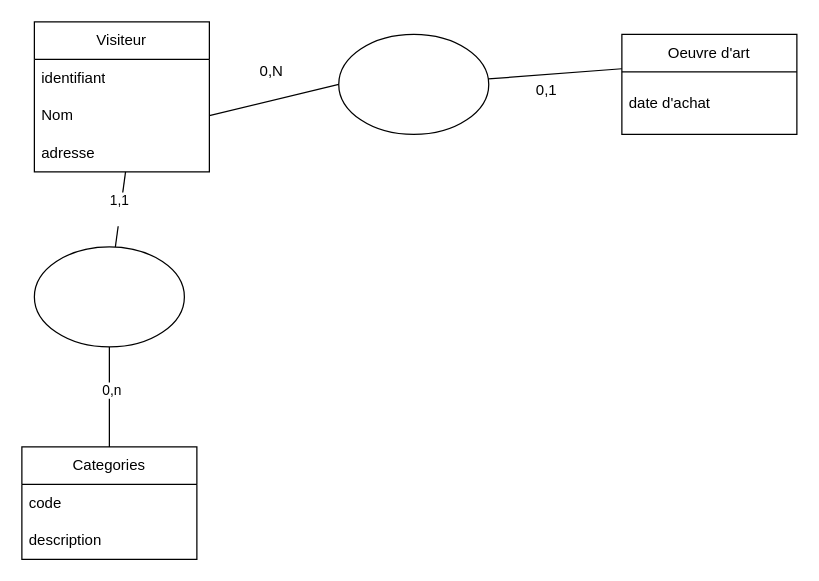
The diagram is 819 pixels wide and 581 high, and some of its shapes have lost their labels. The shapes that lost their labels are listed below. From the top down, each one's centre as x and y in pixels, then its label:
At point 413,83: "achat".
At point 108,296: "classé".
